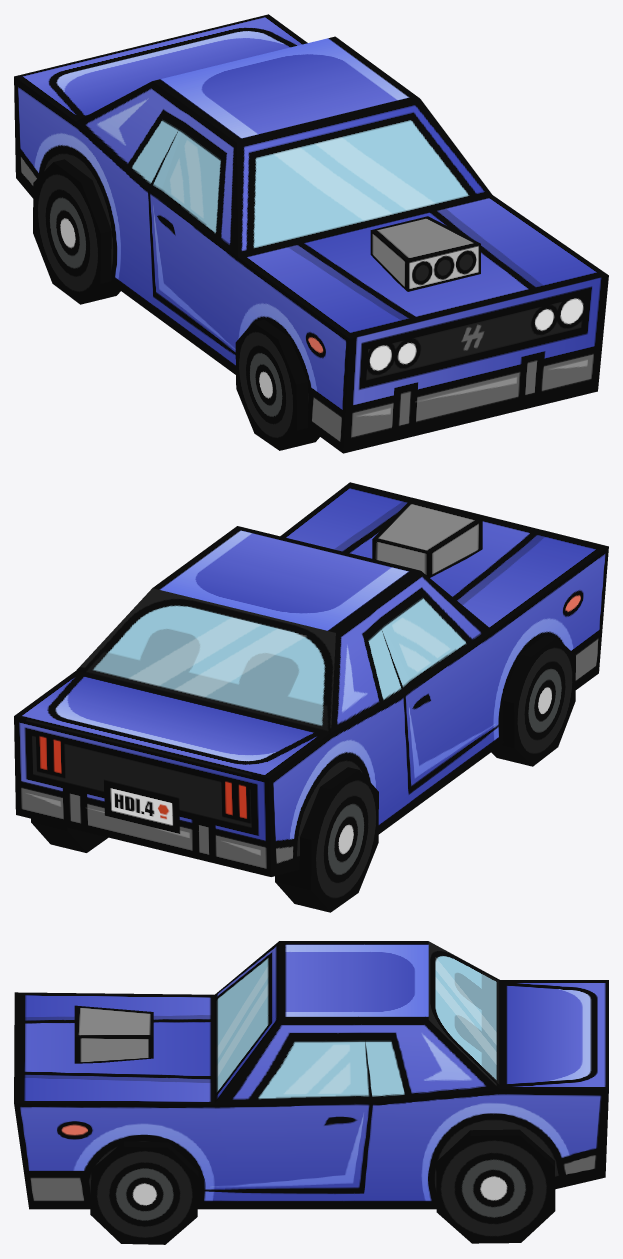
Rendered from car7_6.gltf.
3 renders of one model, top to bottom at view 1: azimuth 30°, elevation 25°; view 2: azimuth 150°, elevation 25°; view 3: azimuth 270°, elevation 25°, orthographic. The views are drawn at different scales.
Visible parts, largest first — view 1: Cylinder.002; view 2: Cylinder.002; view 3: Cylinder.002.
Boxes of the visible parts, left/top/right/bottom form: Cylinder.002: left=14, top=14, right=608, bottom=453; Cylinder.002: left=14, top=482, right=608, bottom=912; Cylinder.002: left=14, top=941, right=608, bottom=1244.
Bounding box in the file's own units: 2.79 × 2.21 × 5.84.
1 material, 1 textured.
